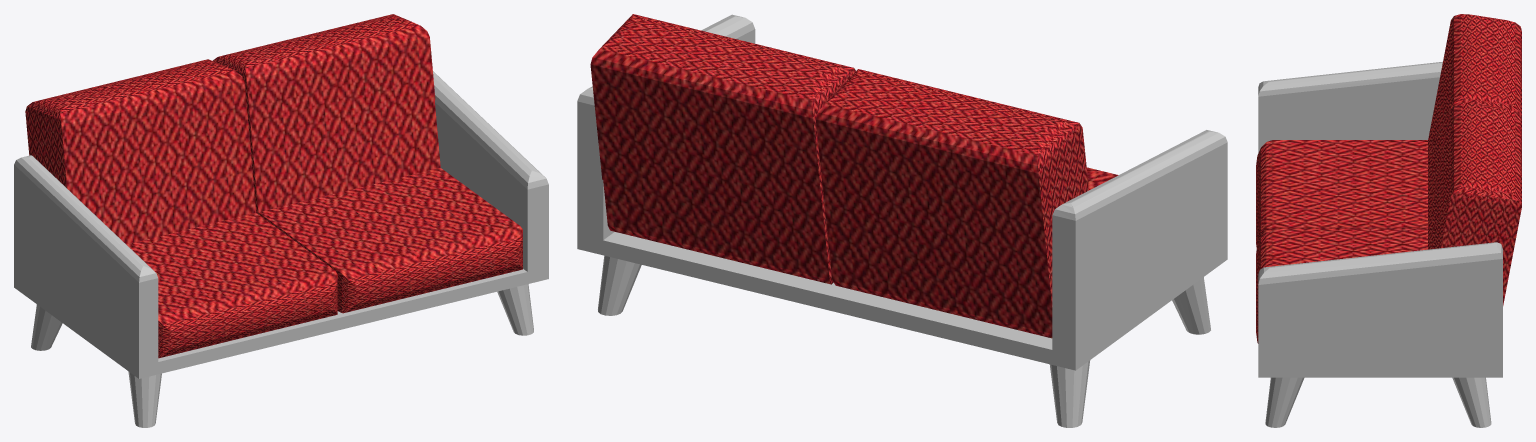
Rendered from canape.fbx.
3 renders of one model, left to right at view 1: azimuth 30°, elevation 25°; view 2: azimuth 150°, elevation 25°; view 3: azimuth 270°, elevation 25°, orthographic. The views are drawn at different scales.
Parts seen in each view (by area): view 1: coussin_canapé_bas_gauche2; view 2: coussin_canapé_bas_gauche2; view 3: coussin_canapé_bas_gauche2.
Part boxes in pixels (x1=…): coussin_canapé_bas_gauche2: x1=14, y1=14, x2=548, y2=427; coussin_canapé_bas_gauche2: x1=577, y1=14, x2=1227, y2=427; coussin_canapé_bas_gauche2: x1=1256, y1=14, x2=1521, y2=427.
Size of the model in its own units: 2.85 by 1.59 by 1.64.
